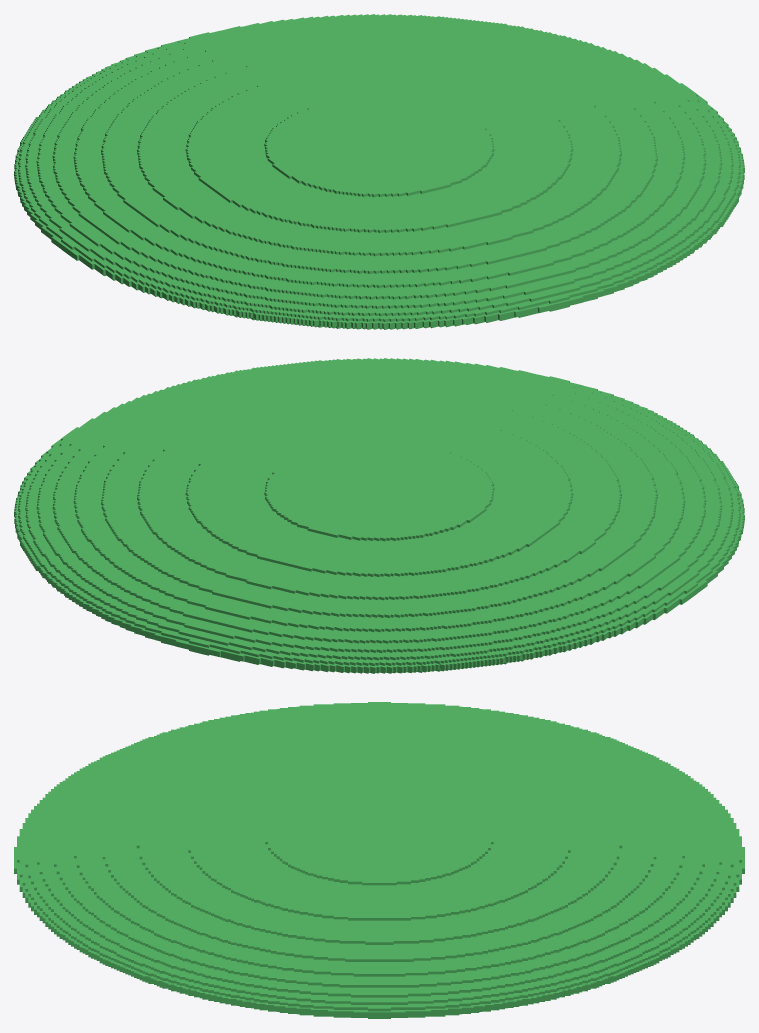
Rendered from Island.obj.
3 views of the same model, one above another, from view 1: azimuth 30°, elevation 25°; view 2: azimuth 150°, elevation 25°; view 3: azimuth 270°, elevation 25° (orthographic).
Bounding box in the file's own units: 25.6 × 2 × 25.6.
1 material, 1 textured.
